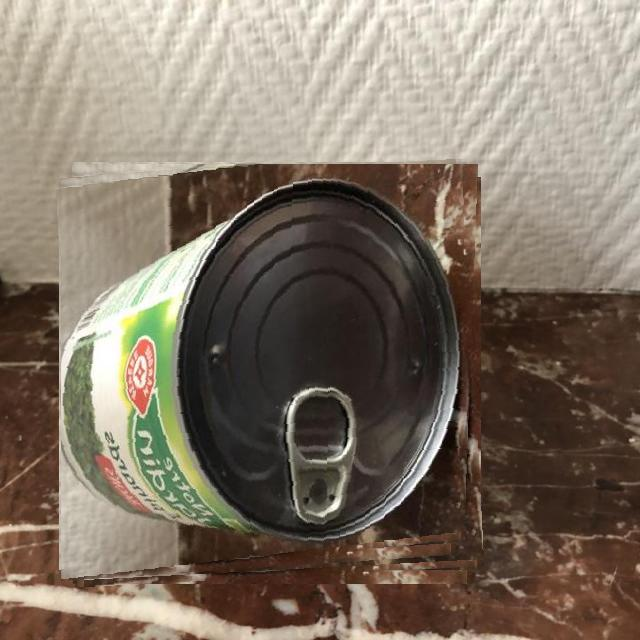recyclable: (62, 164, 480, 582)
